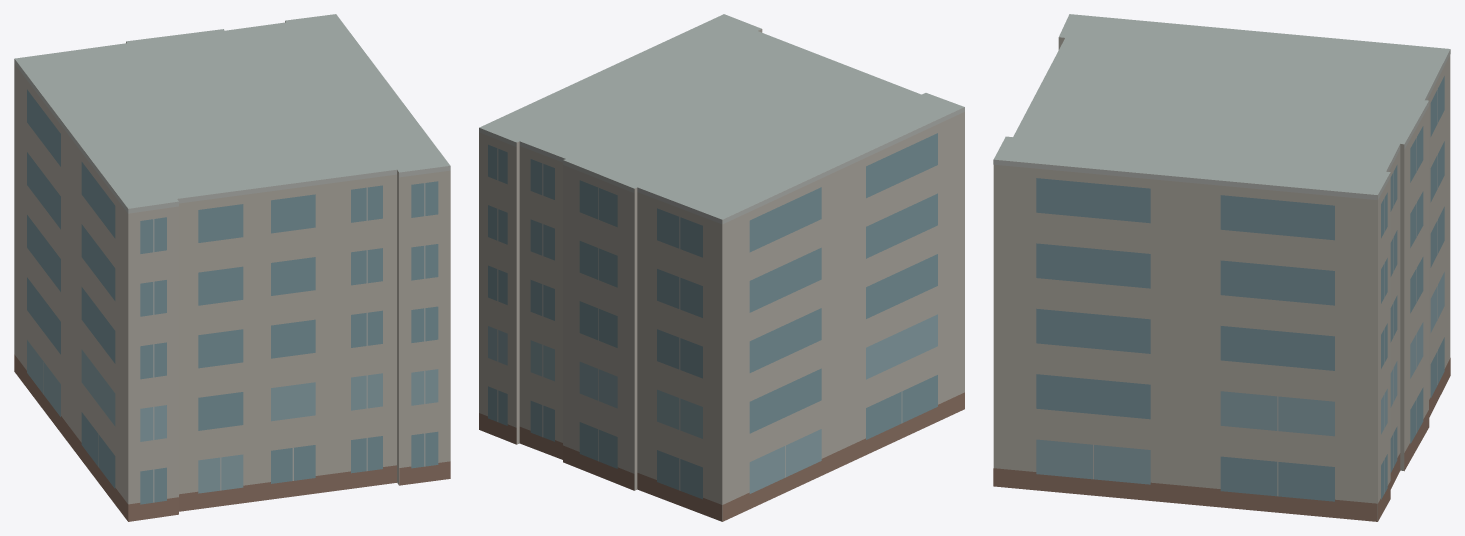
The model's file is survey-upis-32536266.glb.
The picture shows the model from 3 angles, left to right: view 1: azimuth 30°, elevation 25°; view 2: azimuth 150°, elevation 25°; view 3: azimuth 270°, elevation 25°; orthographic projection. The views are drawn at different scales.
Visible parts, largest first — view 1: survey-upis-32536266.tmp; view 2: survey-upis-32536266.tmp; view 3: survey-upis-32536266.tmp.
Boxes of the visible parts, <box> form: survey-upis-32536266.tmp: <box>14,14,450,521</box>; survey-upis-32536266.tmp: <box>479,14,964,521</box>; survey-upis-32536266.tmp: <box>993,14,1450,521</box>.
Size of the model in its own units: 18.79 by 15.8 by 20.04.
